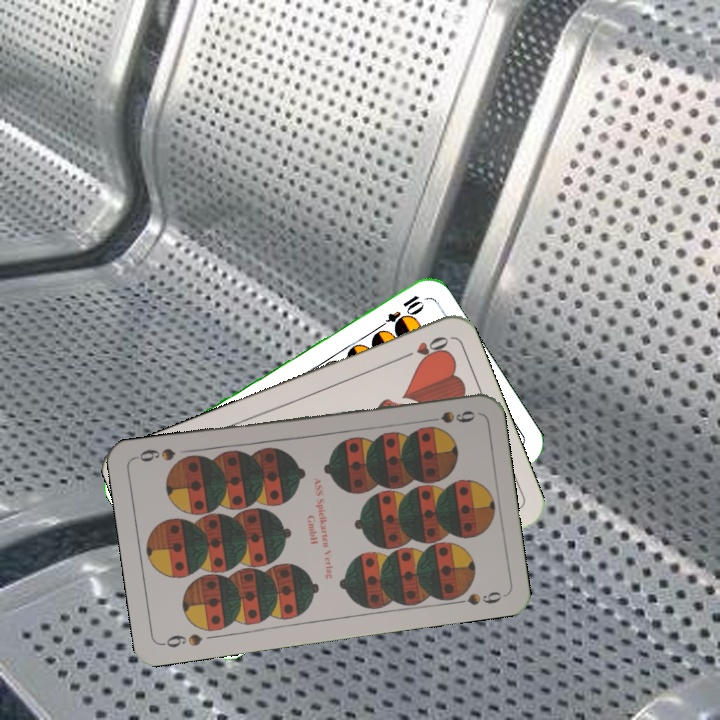E10: (372, 290, 425, 334)
HO: (395, 332, 451, 363)
S9: (419, 406, 478, 426), (158, 630, 205, 650)
